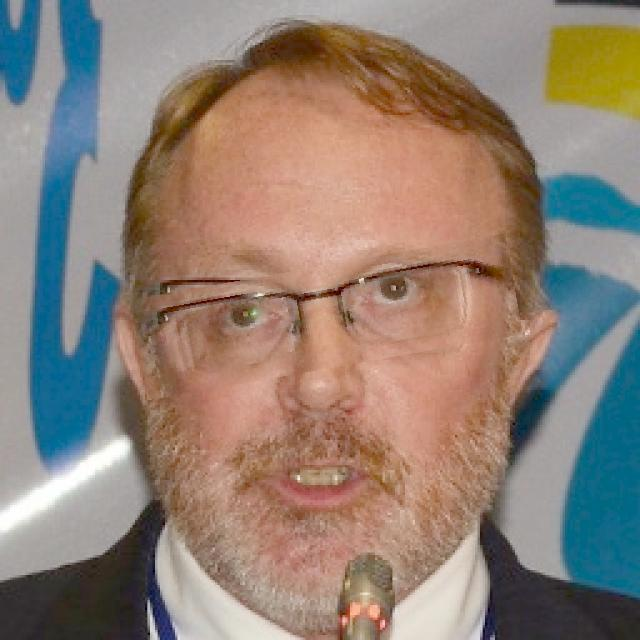glasses: (133, 250, 520, 384)
